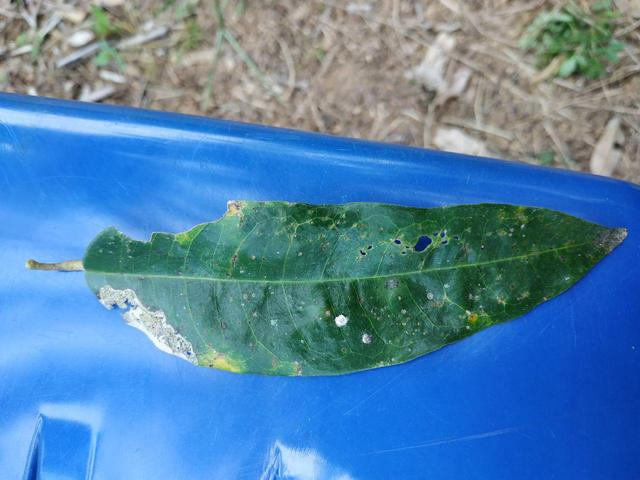blight spot: (343, 227, 480, 260)
